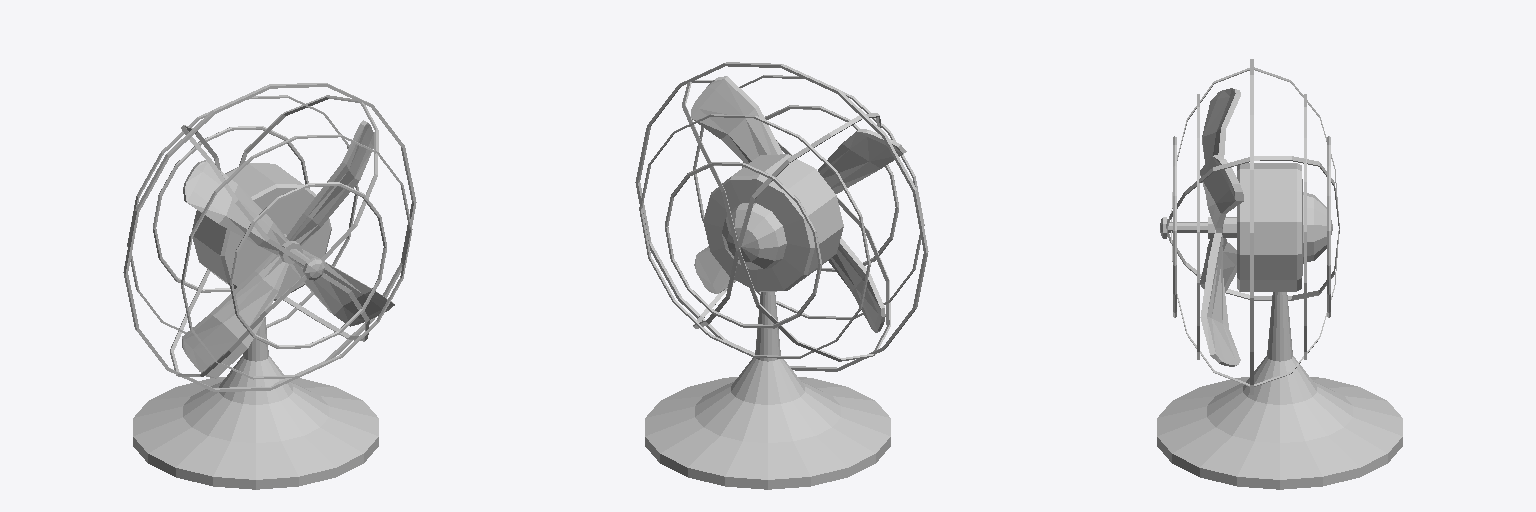
File: DeskFanA_test.obj
3 views of the same model, side by side, from view 1: azimuth 30°, elevation 25°; view 2: azimuth 150°, elevation 25°; view 3: azimuth 270°, elevation 25° (orthographic).
Visible parts, largest first — view 1: FanA_low; view 2: FanA_low; view 3: FanA_low.
Part boxes in pixels (left/top/right/bottom): FanA_low: left=123, top=83, right=416, bottom=489; FanA_low: left=635, top=62, right=928, bottom=489; FanA_low: left=1157, top=59, right=1402, bottom=489.
Size of the model in its own units: 14 by 16.64 by 10.23.